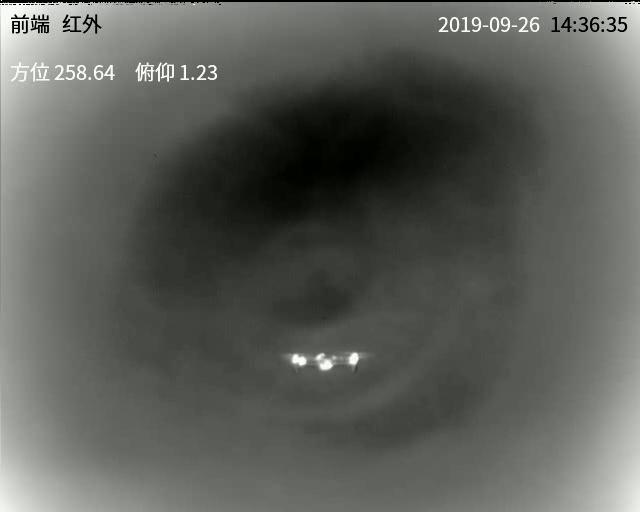DRONE: (289, 349, 360, 376)
